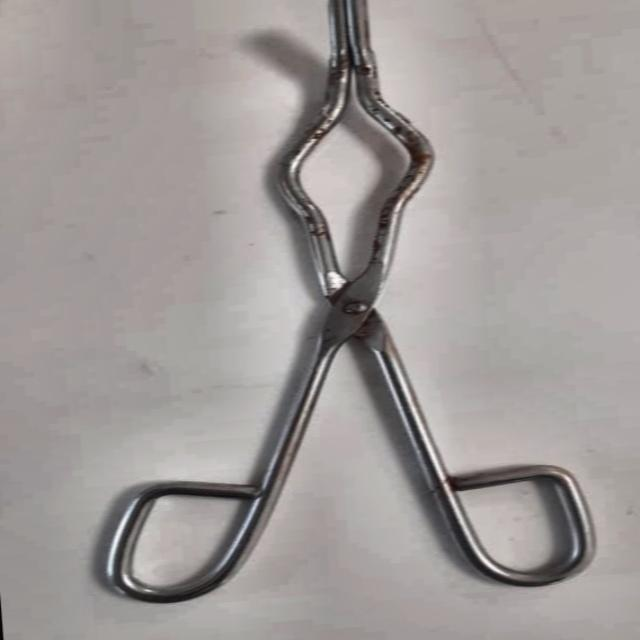Tongue: (43, 0, 625, 627)
